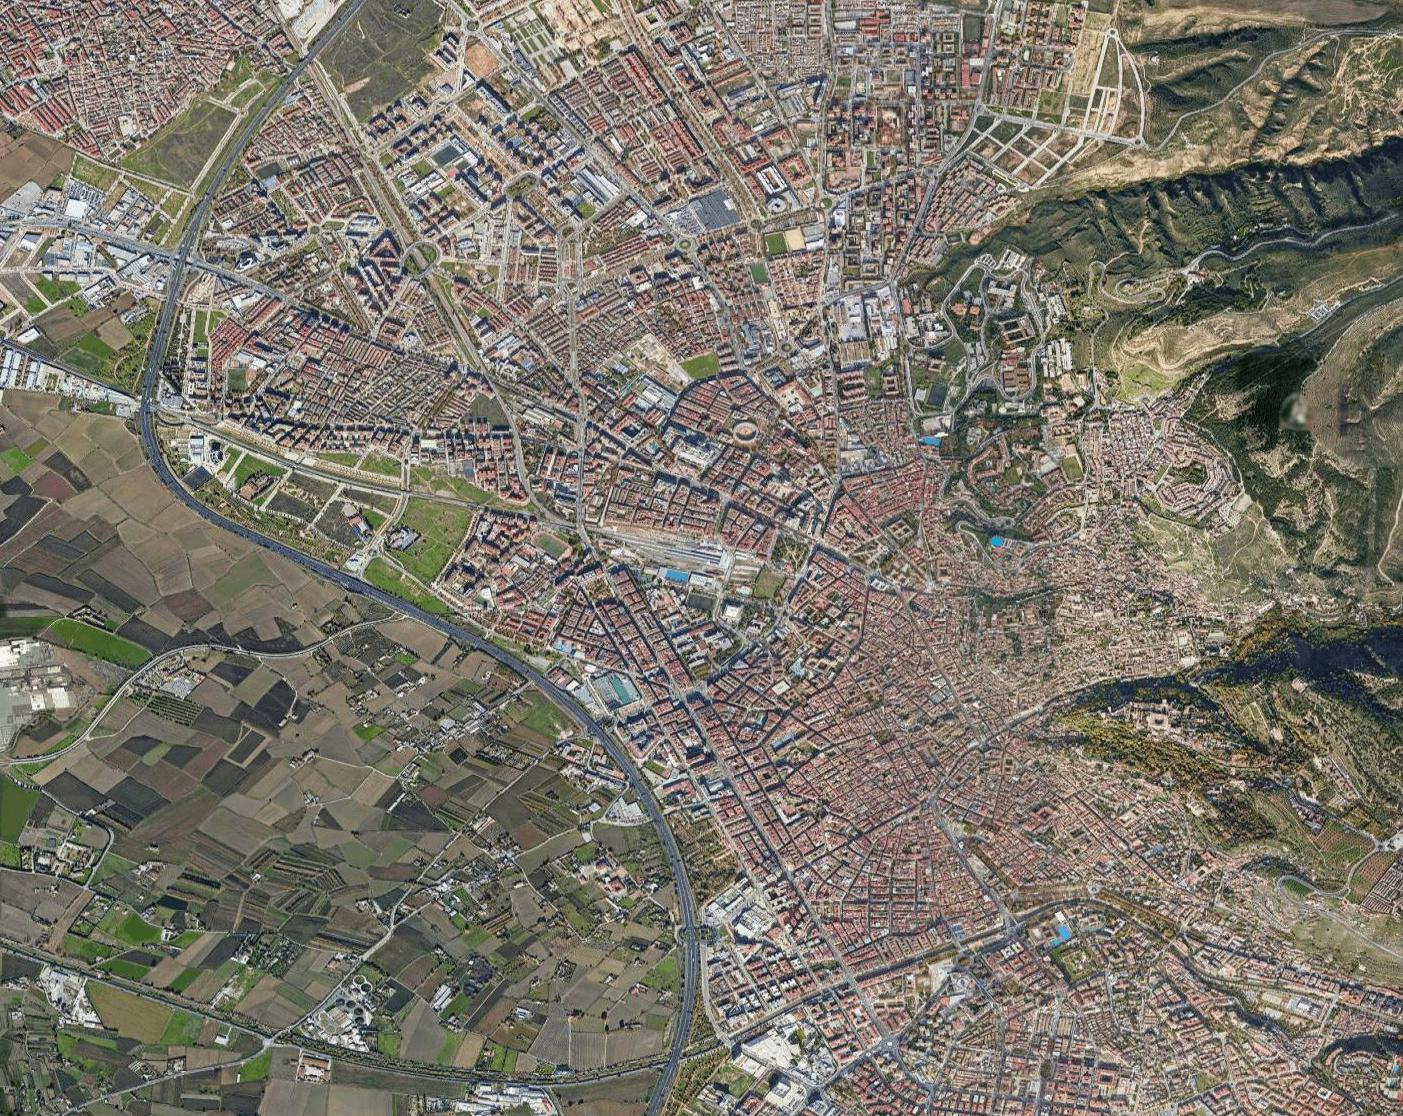industrial: (3, 172, 154, 299)
motorway: (574, 708, 671, 837), (443, 625, 572, 711), (305, 558, 441, 629), (178, 491, 304, 559), (665, 842, 703, 1039), (240, 58, 307, 146), (145, 241, 189, 374), (188, 142, 243, 243), (140, 372, 177, 494), (638, 1040, 691, 1116), (305, 1, 360, 59)
train_station: (655, 530, 732, 590)
